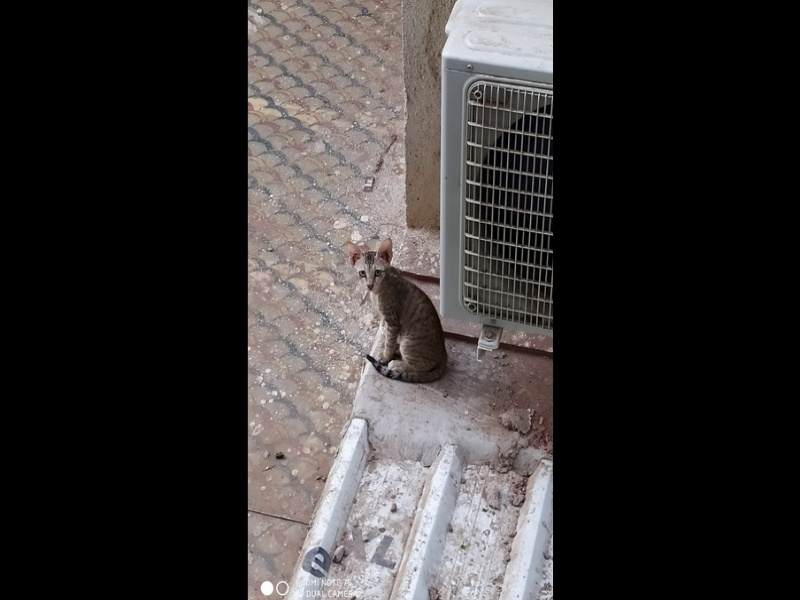cat: (343, 239, 453, 383)
